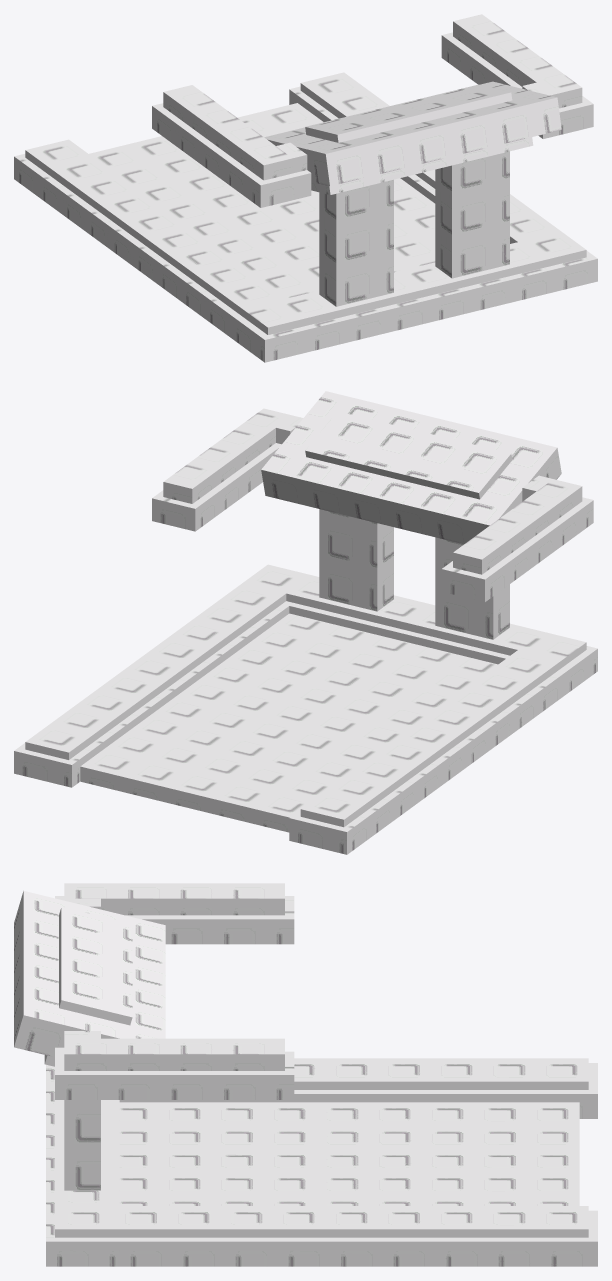
Rendered from 03-golden.obj.
3 views of the same model, one above another, from view 1: azimuth 30°, elevation 25°; view 2: azimuth 150°, elevation 25°; view 3: azimuth 270°, elevation 25° (orthographic). The views are drawn at different scales.
Parts seen in each view (by area): view 1: Part17, Part2, Part5, Part15, Part7, Part6, Part24, Part13, Part10, Part4, Part23, Part9 (+9 smaller); view 2: Part17, Part2, Part14, Part21, Part3, Part24, Part19, Part23, Part10, Part13, Part6, Part7 (+7 smaller); view 3: Part14, Part11, Part17, Part13, Part21, Part3, Part24, Part2, Part23, Part20, Part22, Part4 (+6 smaller).
Part boxes in pixels (x1,y1,x2,y2): Part17: [264, 81, 561, 186]; Part2: [25, 139, 285, 316]; Part5: [231, 251, 597, 362]; Part15: [319, 179, 393, 306]; Part7: [435, 151, 509, 278]; Part6: [243, 231, 586, 334]; Part24: [124, 136, 319, 287]; Part13: [89, 145, 319, 298]; Part10: [14, 154, 238, 337]; Part4: [163, 85, 292, 180]; Part23: [305, 84, 512, 142]; Part9: [152, 103, 303, 207]; Part17: [261, 391, 561, 544]; Part2: [300, 650, 561, 827]; Part14: [25, 583, 286, 759]; Part21: [123, 624, 375, 802]; Part3: [167, 634, 419, 813]; Part24: [210, 645, 462, 823]; Part19: [80, 613, 332, 791]; Part23: [305, 411, 512, 499]; Part10: [289, 671, 564, 854]; Part13: [254, 656, 497, 832]; Part6: [243, 564, 586, 667]; Part7: [319, 509, 393, 611]; Part14: [110, 1206, 588, 1237]; Part11: [119, 1210, 597, 1266]; Part17: [14, 890, 165, 1057]; Part13: [119, 1102, 579, 1125]; Part21: [119, 1172, 579, 1195]; Part3: [119, 1149, 579, 1172]; Part24: [119, 1125, 579, 1148]; Part2: [294, 1058, 588, 1089]; Part23: [59, 907, 132, 1025]; Part20: [55, 1051, 294, 1099]; Part22: [64, 1038, 284, 1070]; Part4: [64, 883, 284, 915].
Size of the model in its own units: 8.05 by 4.71 by 11.11.
24 materials, 24 textured.
